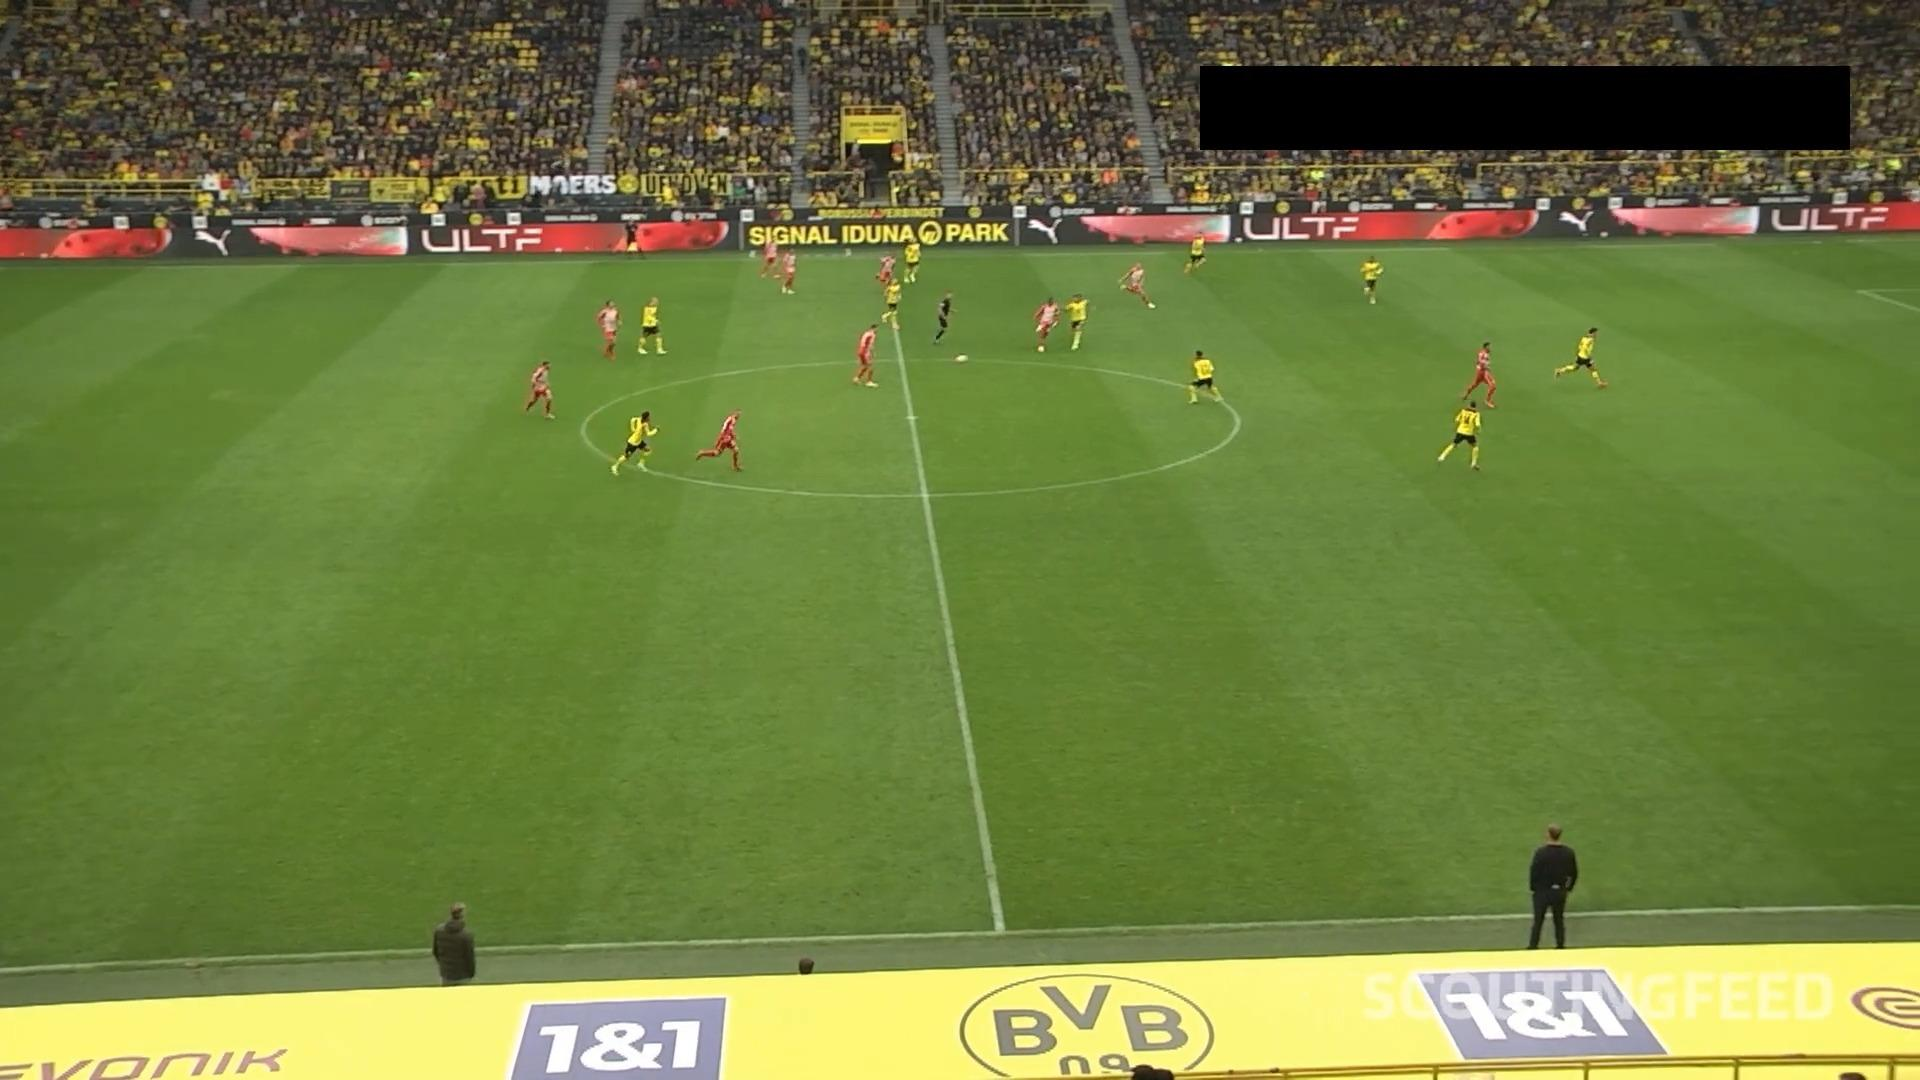ball: (953, 352, 969, 365)
